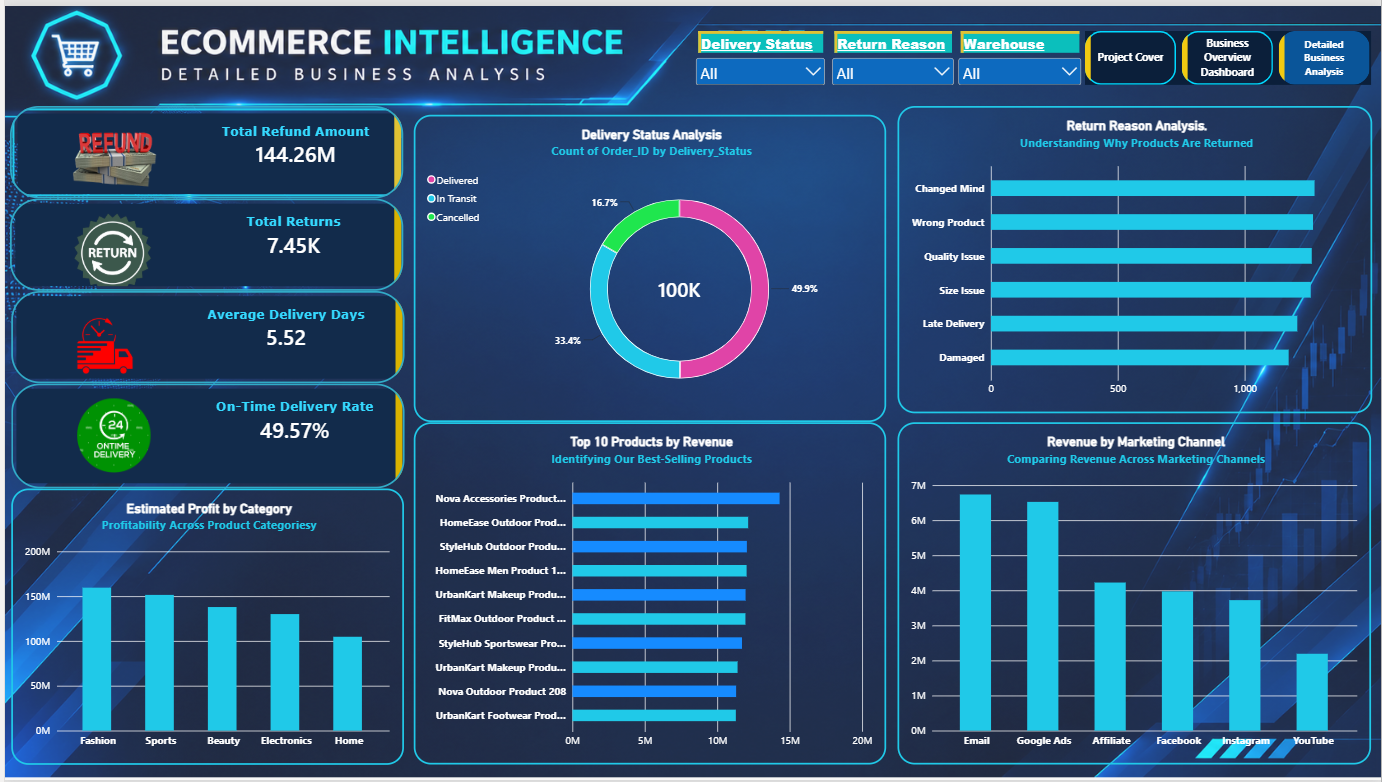

This screenshot's page, from the dashboard's own definition file:
{"tool":"powerbi","page":{"name":"Detailed Business Analysis","canvas":[1920,1080],"ordinal":2},"visuals":[{"type":"clusteredBarChart","title":"Return Reason Analysis.","fields":{"Category":["riteshproject returns.Return_Reason"],"Y":["Count(riteshproject returns.Return_ID)"]},"box":[1245.4,139.5,662.8,429.1],"z":0},{"type":"donutChart","title":"Delivery Status Analysis","fields":{"Category":["riteshproject delivery.Delivery_Status"],"Y":["CountNonNull(riteshproject delivery.Order_ID)"]},"box":[570.4,151.7,659.3,429.1],"z":1000},{"type":"clusteredBarChart","title":"Top 10 Products by Revenue","fields":{"Category":["riteshproject products.Product_Name"],"Y":["riteshproject order_items.Total Revenue"]},"box":[570.4,580.8,659.3,477.9],"z":2000},{"type":"clusteredColumnChart","title":"Estimated Profit by Category","fields":{"Category":["riteshproject products.Category"],"Y":["riteshproject order_items.Estimated Profit"]},"box":[8.7,673.3,547.7,385.5],"z":3000},{"type":"clusteredColumnChart","title":"Revenue by Marketing Channel","fields":{"Category":["riteshproject marketing.Channel"],"Y":["Sum(riteshproject marketing.Revenue_Generated)"]},"box":[1245.4,580.8,661,477.9],"z":4000},{"type":"cardVisual","fields":{"Data":["Sum(riteshproject returns.Refund_Amount)"]},"box":[7,139.5,549.4,129.1],"z":5000},{"type":"cardVisual","fields":{"Data":["riteshproject delivery.Average Delivery Days"]},"box":[8.7,397.7,549.4,129.1],"z":6000},{"type":"cardVisual","fields":{"Data":["riteshproject returns.Total Returns"]},"box":[7,268.6,549.4,129.1],"z":7000},{"type":"cardVisual","fields":{"Data":["riteshproject delivery.On-Time Delivery Rate"]},"box":[8.7,526.7,549.4,146.5],"z":8000},{"type":"slicer","fields":{"Values":["riteshproject delivery.Warehouse"]},"box":[1285.5,34.9,191.9,64.5],"z":9000},{"type":"slicer","fields":{"Values":["riteshproject returns.Return_Reason"]},"box":[1105.8,34.9,179.7,66.3],"z":10000},{"type":"slicer","fields":{"Values":["riteshproject delivery.Delivery_Status"]},"box":[926.2,34.9,179.7,64.5],"z":11000},{"type":"pageNavigator","box":[1491.3,34.9,429.1,75],"z":12000}]}

Visuals, with their boxes in screenshot pixels (x1, y1, x2, y2), scaled from the page's 1920x1080 canvas onto the 1387x782 screenshot:
"Return Reason Analysis." clusteredBarChart: x1=900 y1=101 x2=1378 y2=412
"Delivery Status Analysis" donutChart: x1=412 y1=110 x2=888 y2=421
"Top 10 Products by Revenue" clusteredBarChart: x1=412 y1=421 x2=888 y2=767
"Estimated Profit by Category" clusteredColumnChart: x1=6 y1=488 x2=402 y2=767
"Revenue by Marketing Channel" clusteredColumnChart: x1=900 y1=421 x2=1377 y2=767
cardVisual - Sum(riteshproject returns.Refund_Amount): x1=5 y1=101 x2=402 y2=194
cardVisual - riteshproject delivery.Average Delivery Days: x1=6 y1=288 x2=403 y2=381
cardVisual - riteshproject returns.Total Returns: x1=5 y1=194 x2=402 y2=288
cardVisual - riteshproject delivery.On-Time Delivery Rate: x1=6 y1=381 x2=403 y2=487
slicer - riteshproject delivery.Warehouse: x1=929 y1=25 x2=1067 y2=72
slicer - riteshproject returns.Return_Reason: x1=799 y1=25 x2=929 y2=73
slicer - riteshproject delivery.Delivery_Status: x1=669 y1=25 x2=799 y2=72
pageNavigator: x1=1077 y1=25 x2=1386 y2=80
